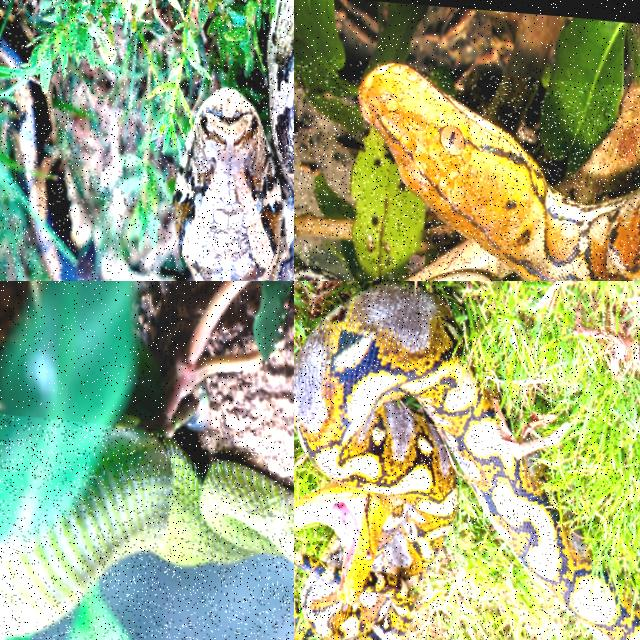Malayopython reticulatus: (294, 282, 639, 639), (358, 64, 639, 280)
Python bivittatus: (173, 0, 293, 280)
Trimeresurus macrops: (0, 428, 293, 635)
